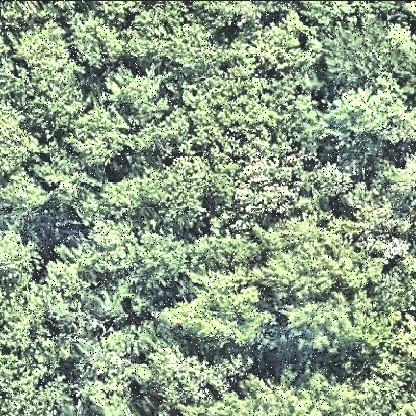tree-top: (266, 218, 371, 356), (155, 263, 271, 355), (233, 144, 355, 230), (210, 364, 359, 416), (99, 164, 219, 226), (320, 13, 413, 89), (326, 75, 416, 150), (122, 2, 212, 70), (147, 346, 250, 400), (1, 348, 76, 416), (106, 63, 176, 123), (67, 12, 129, 75), (68, 106, 128, 168)
